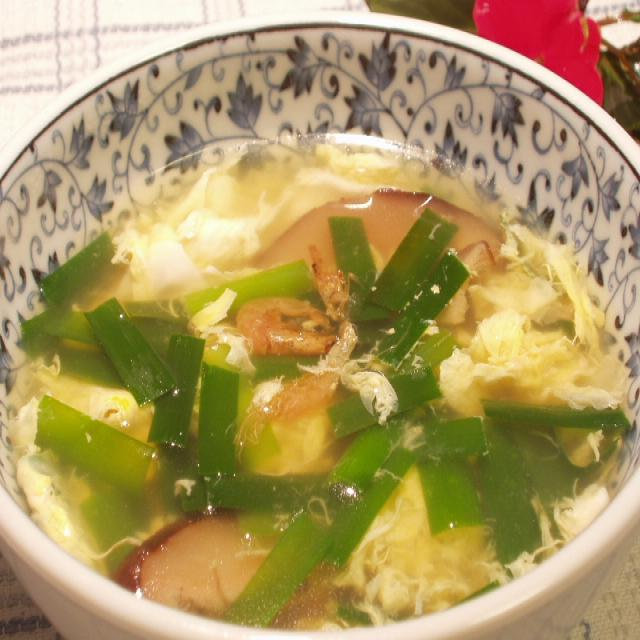汤锅炖物: (2, 43, 634, 637)
